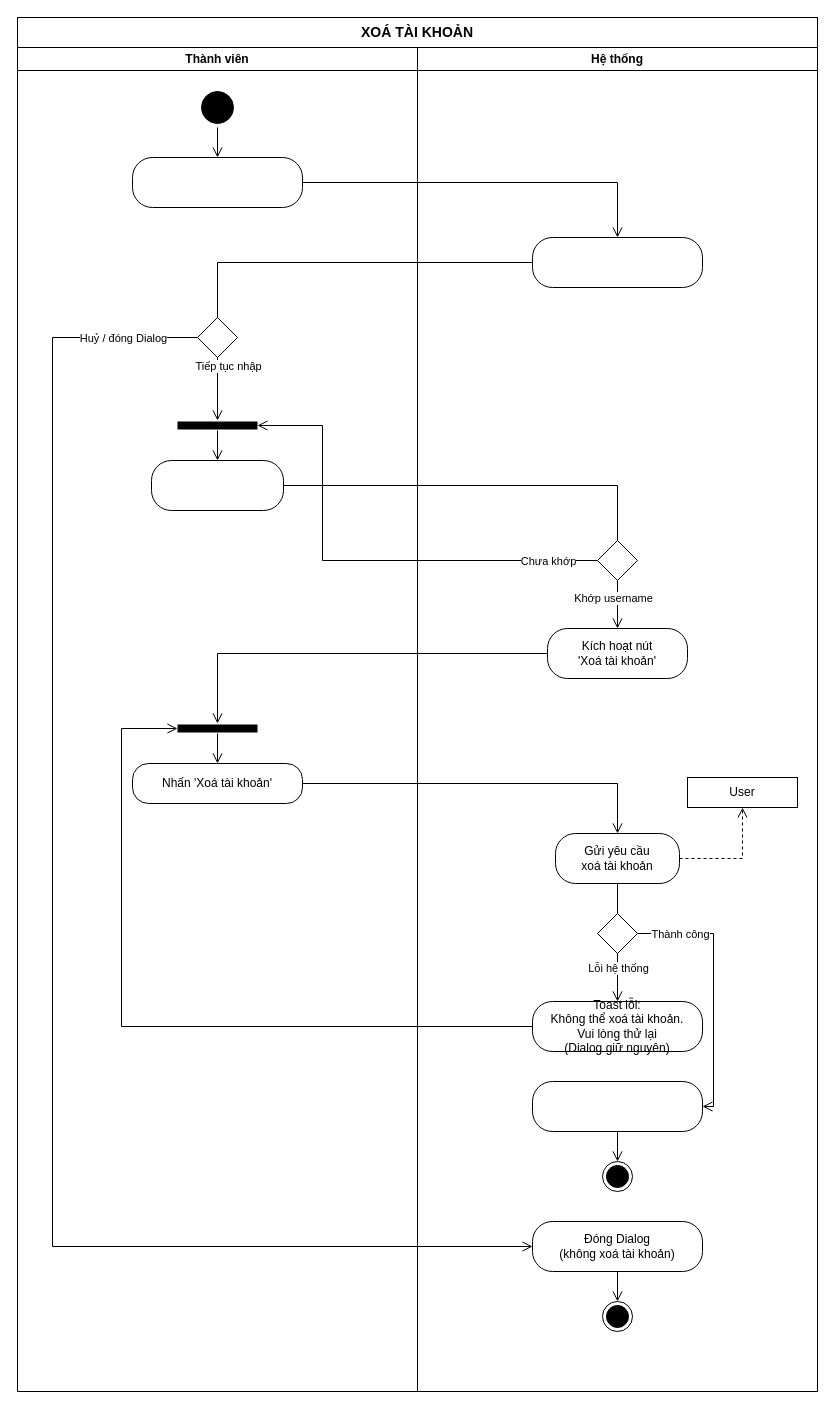
The diagram is 835 pixels wide and 1409 high, and some of its shapes have lost their labels. Here are the shapes that lost their labels. From the top down, the centre of each, then its label:
At point 217,182: "Nhấn 'Xoá tài khoản' trong panel Vùng nguy hiểm".
At point 617,262: "Mở Dialog 'Xoá tài khoản' hiển thị cảnh báo + username".
At point 217,485: "Nhập username vào ô xác nhận".
At point 617,1106: "Đăng xuất và chuyển hướng về trang chủ".
